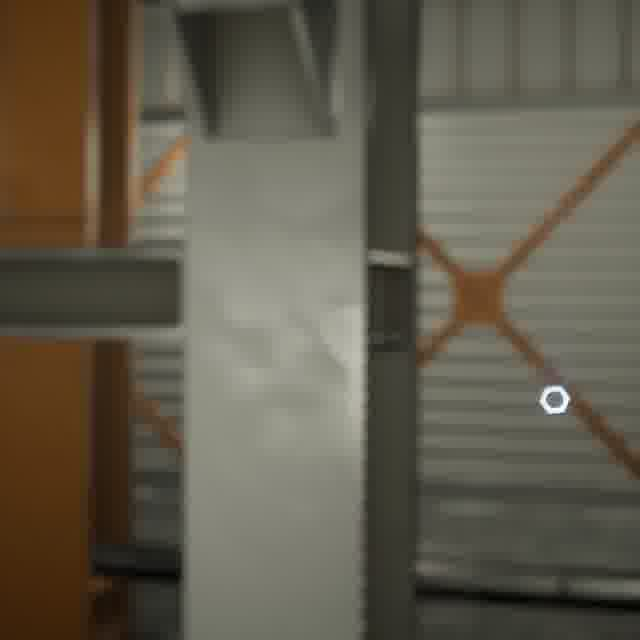nut: (534, 380, 575, 420)
